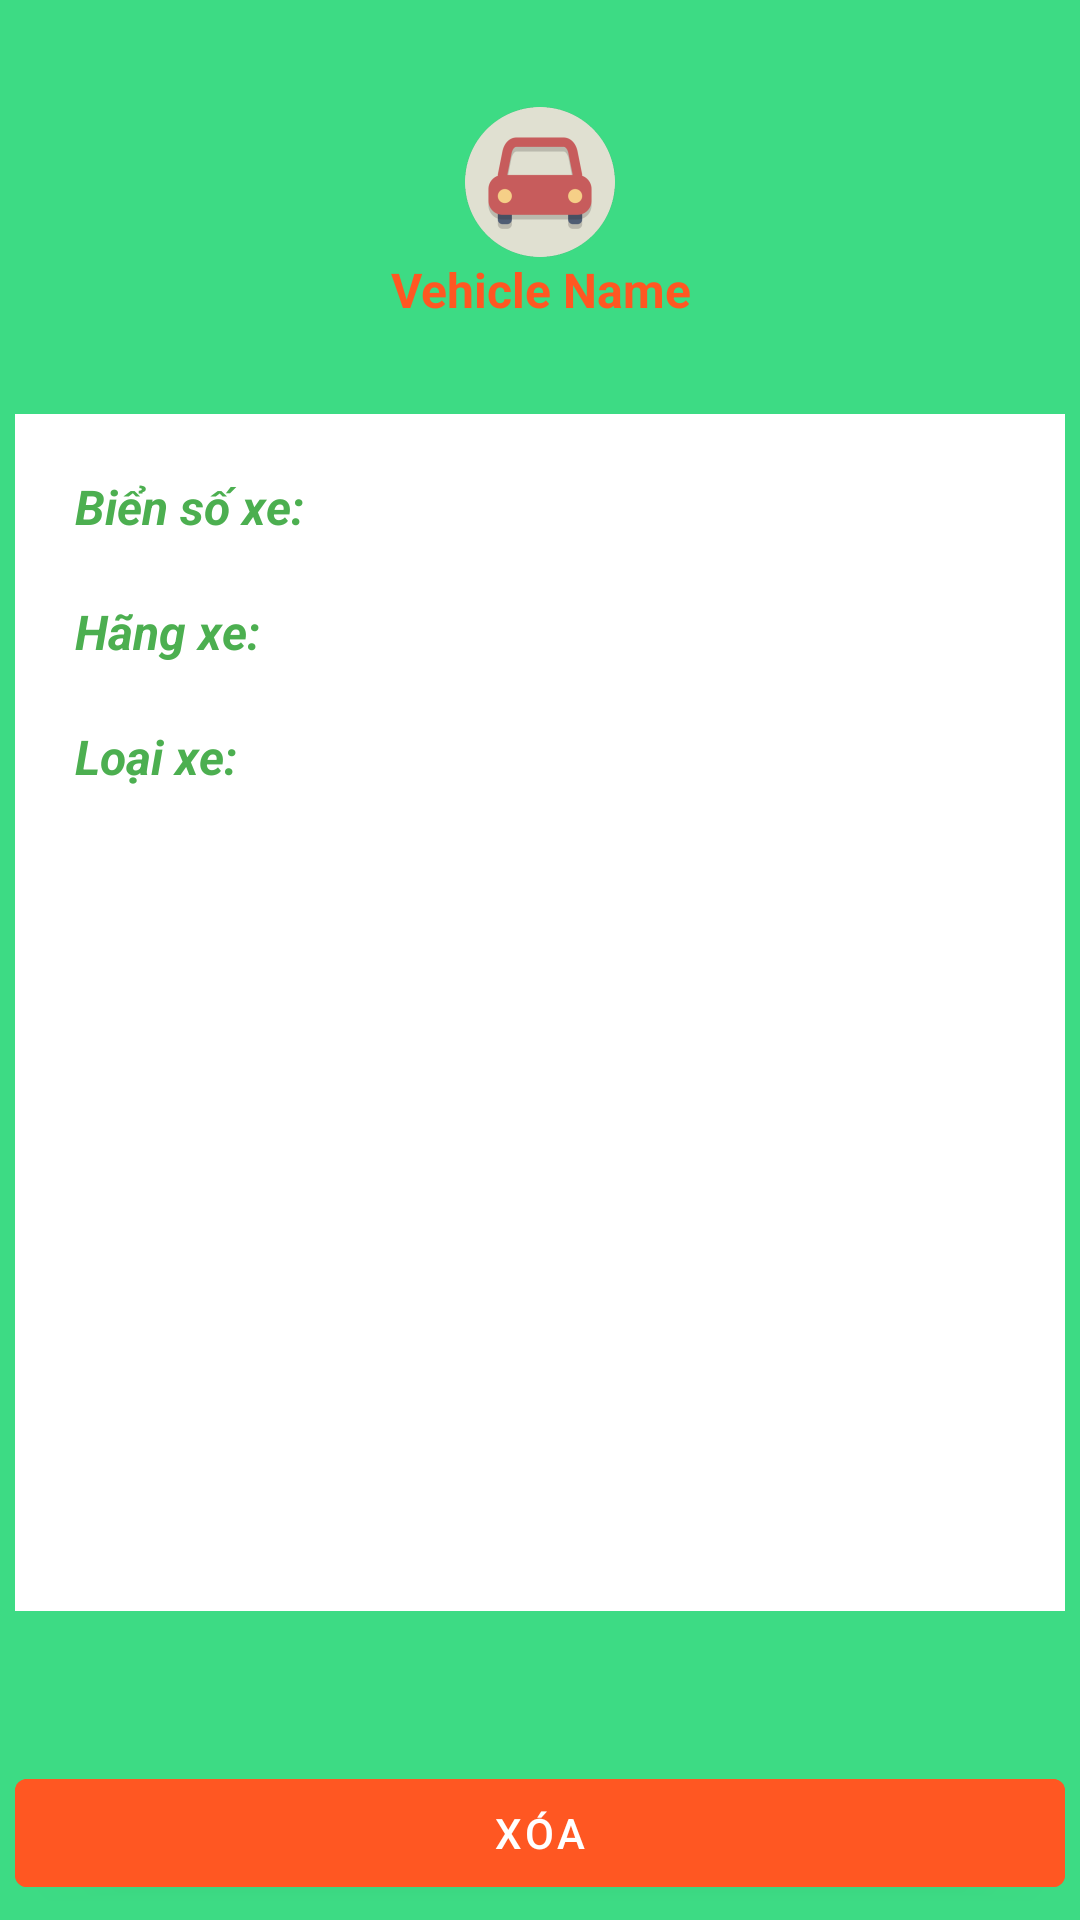

Icon click points for this 1080w x 1920h phone screenshot, format point (x, y):
car: point (540, 182)
